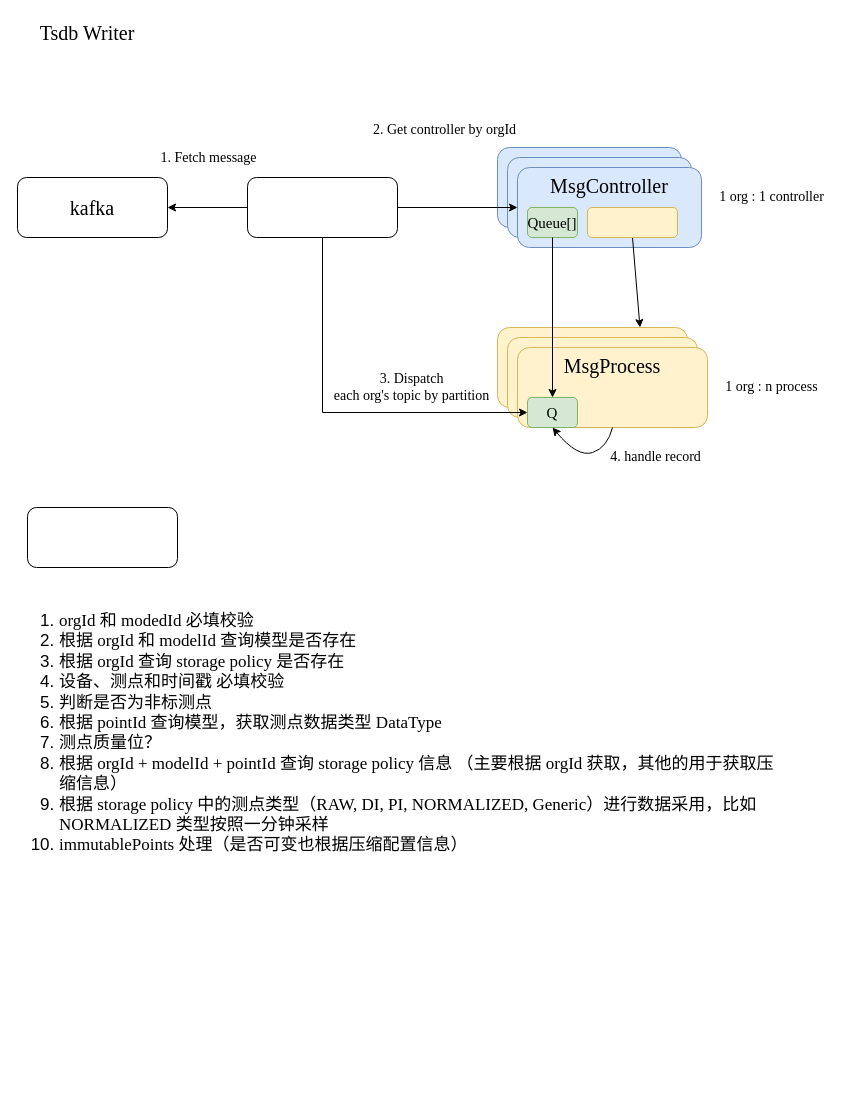
This 841x1107 diagram has some shape labels left out. The centre of each missing label's shape, as x and y in pixels:
"MsgPoller" belongs at (322,207).
"MsgProcess[]" belongs at (632,222).
"PointerParser" belongs at (102,537).
